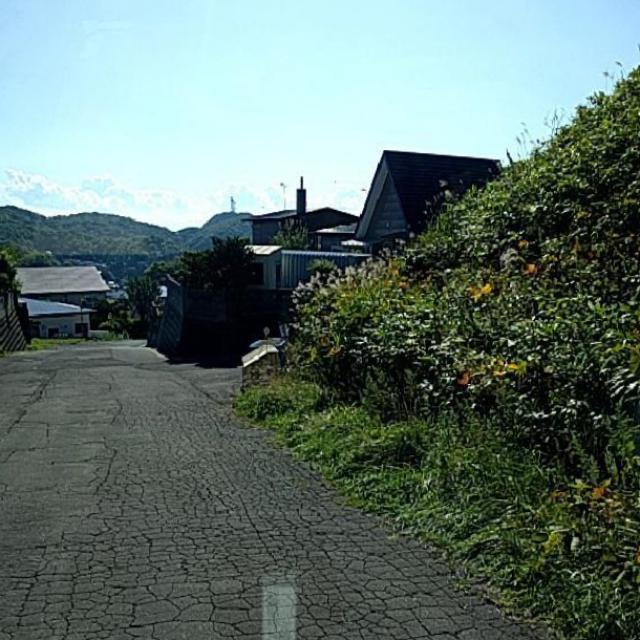Retak Buaya: (0, 420, 525, 640)
